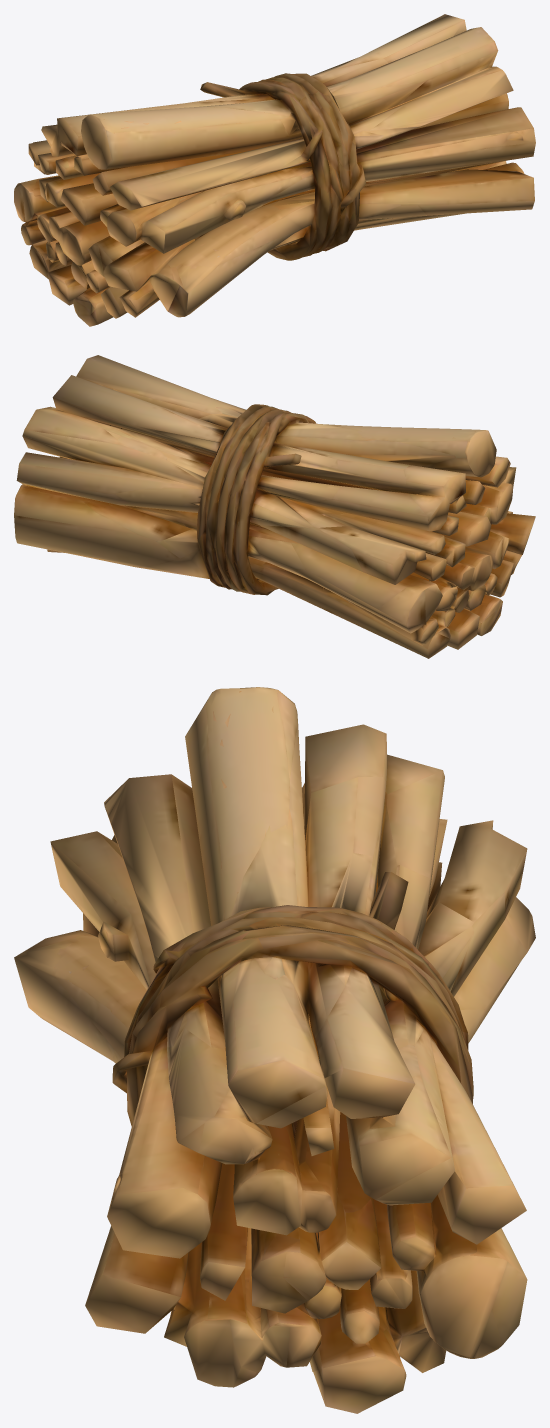
Rendered from plank_bundle.glb.
The picture shows the model from 3 angles, top to bottom: view 1: azimuth 30°, elevation 25°; view 2: azimuth 150°, elevation 25°; view 3: azimuth 270°, elevation 25°; orthographic projection. The views are drawn at different scales.
Parts seen in each view (by area): view 1: node_0; view 2: node_0; view 3: node_0.
Boxes of the visible parts, bbox=[...] form: node_0: bbox=[14, 14, 535, 326]; node_0: bbox=[14, 355, 535, 658]; node_0: bbox=[14, 687, 535, 1413].
Size of the model in its own units: 1.08 by 0.4815 by 0.6098.
1 material, 1 textured.
